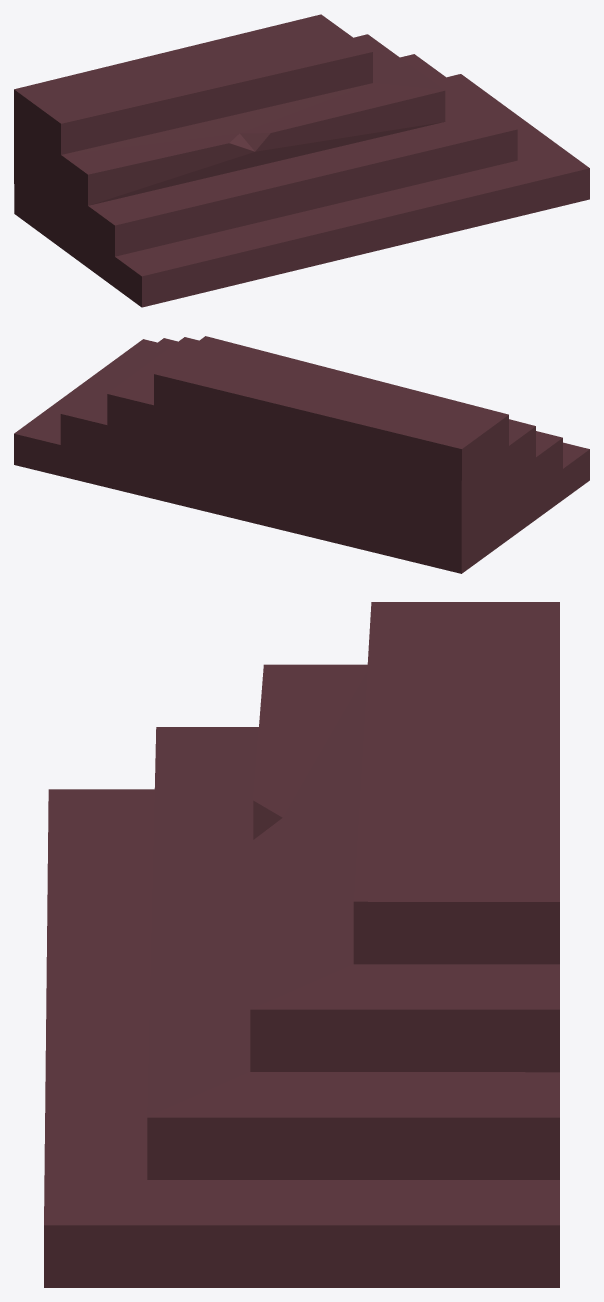
Rendered from empire-stairs-corner-r-small-empire.glb.
The picture shows the model from 3 angles, top to bottom: view 1: azimuth 30°, elevation 25°; view 2: azimuth 150°, elevation 25°; view 3: azimuth 270°, elevation 25°; orthographic projection. The views are drawn at different scales.
Parts seen in each view (by area): view 1: SM_Stairs_Corner_R_Small_Empire; view 2: SM_Stairs_Corner_R_Small_Empire; view 3: SM_Stairs_Corner_R_Small_Empire.
Boxes of the visible parts, x1,y1,x2,y2 form: SM_Stairs_Corner_R_Small_Empire: (14, 14, 589, 307); SM_Stairs_Corner_R_Small_Empire: (14, 336, 589, 573); SM_Stairs_Corner_R_Small_Empire: (44, 602, 559, 1287).
Size of the model in its own units: 3 by 0.8012 by 1.5.
